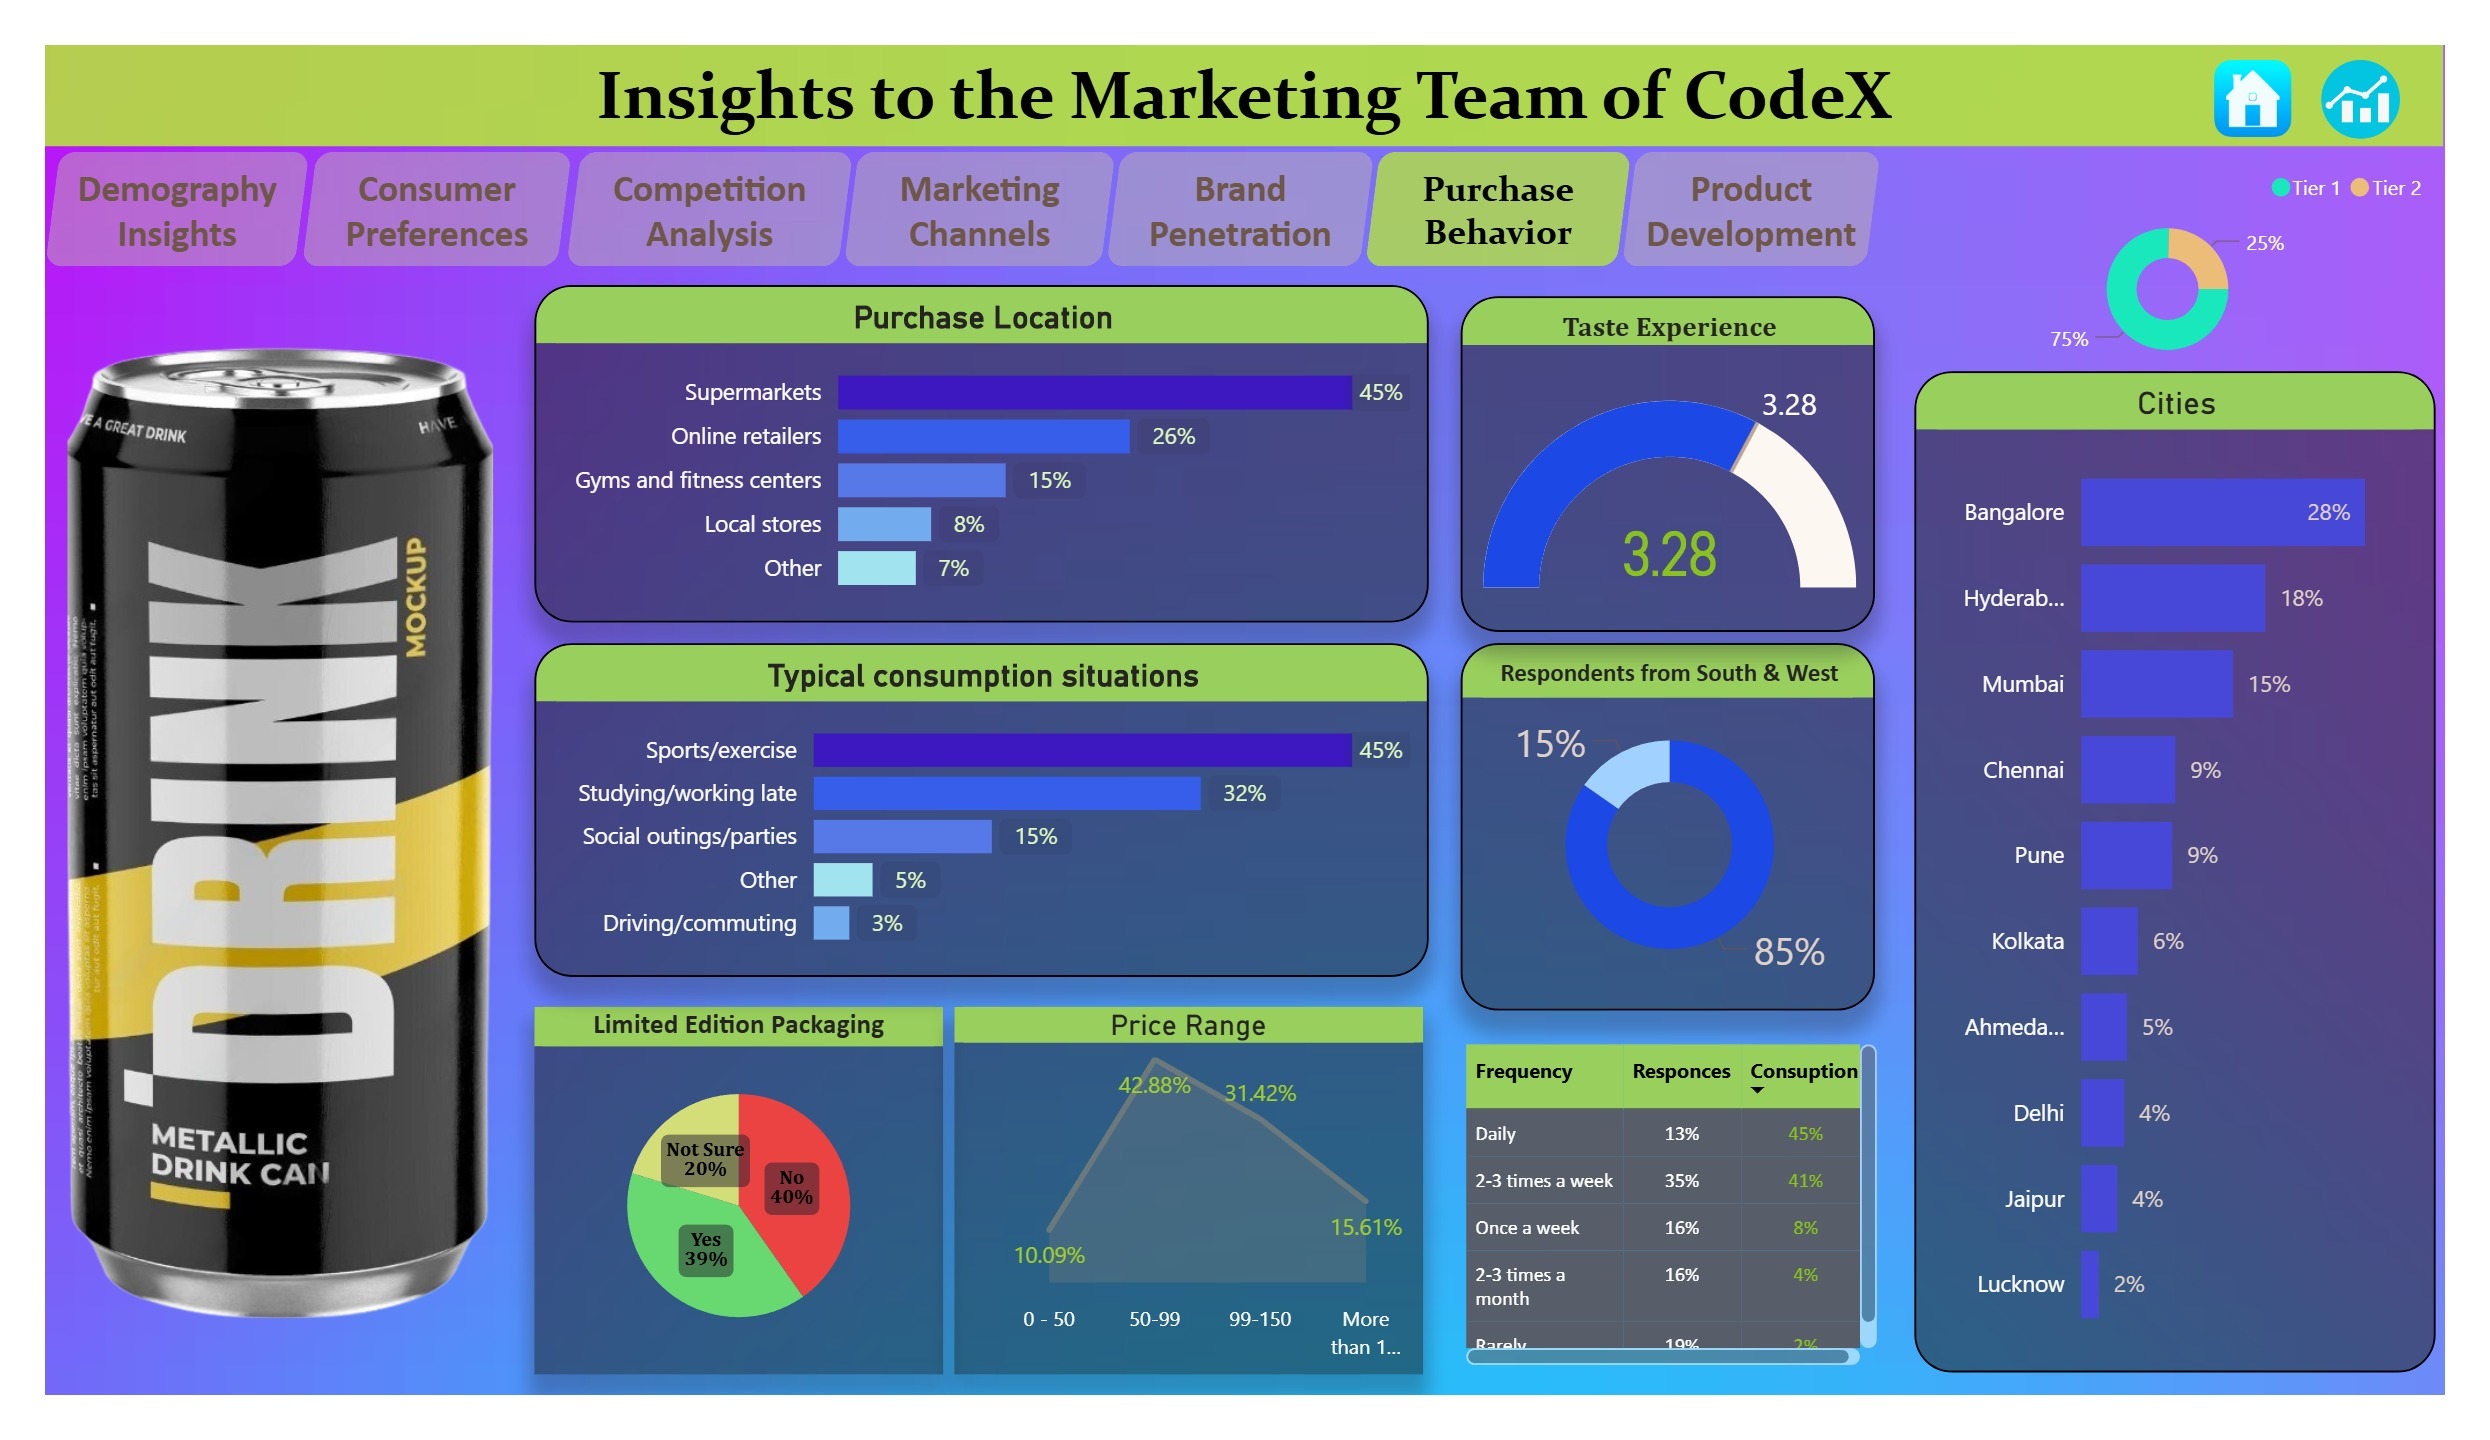

The page's visual inventory and layout, read from the dashboard file:
{"tool":"tableau","page":{"name":"Dashboard 2","canvas":[1000,1000],"units":"permille","ordinal":1},"visuals":[{"type":"worksheet","title":"limiting_packaging_edition","mark":"Automatic","box":[6.9,11.8,297,488.2]},{"type":"worksheet","title":"Price Range","mark":"Automatic","rows":["Respondent_ID"],"cols":["Price_range"],"box":[310,15.2,340.3,489.9]},{"type":"worksheet","title":"Consume_frequency","mark":"Pie","box":[645.9,22,346.3,494.9]},{"type":"worksheet","title":"Brand_perception","mark":"Automatic","rows":["Brand_perception"],"cols":["Respondent_ID"],"box":[3.5,505.1,300.4,466.2]},{"type":"worksheet","title":"Market Share","mark":"Pie","box":[313.4,505.1,333.3,473]},{"type":"worksheet","title":"Purchase Location","mark":"Automatic","rows":["Respondent_ID"],"cols":["Purchase_location"],"box":[652.8,508.4,342,464.5]}]}

Visuals, with their boxes on the dashboard's canvas, which has no fixed pixel size, in thousandths of its width and height (x1, y1, x2, y2). These are canvas units, not pixel positions in the 2490x1440 screenshot, which may show the page scaled, cropped or inside an application window:
"limiting_packaging_edition" worksheet: <bbox>7, 12, 304, 500</bbox>
"Price Range" worksheet: <bbox>310, 15, 650, 505</bbox>
"Consume_frequency" worksheet (Pie marks): <bbox>646, 22, 992, 517</bbox>
"Brand_perception" worksheet: <bbox>4, 505, 304, 971</bbox>
"Market Share" worksheet (Pie marks): <bbox>313, 505, 647, 978</bbox>
"Purchase Location" worksheet: <bbox>653, 508, 995, 973</bbox>
